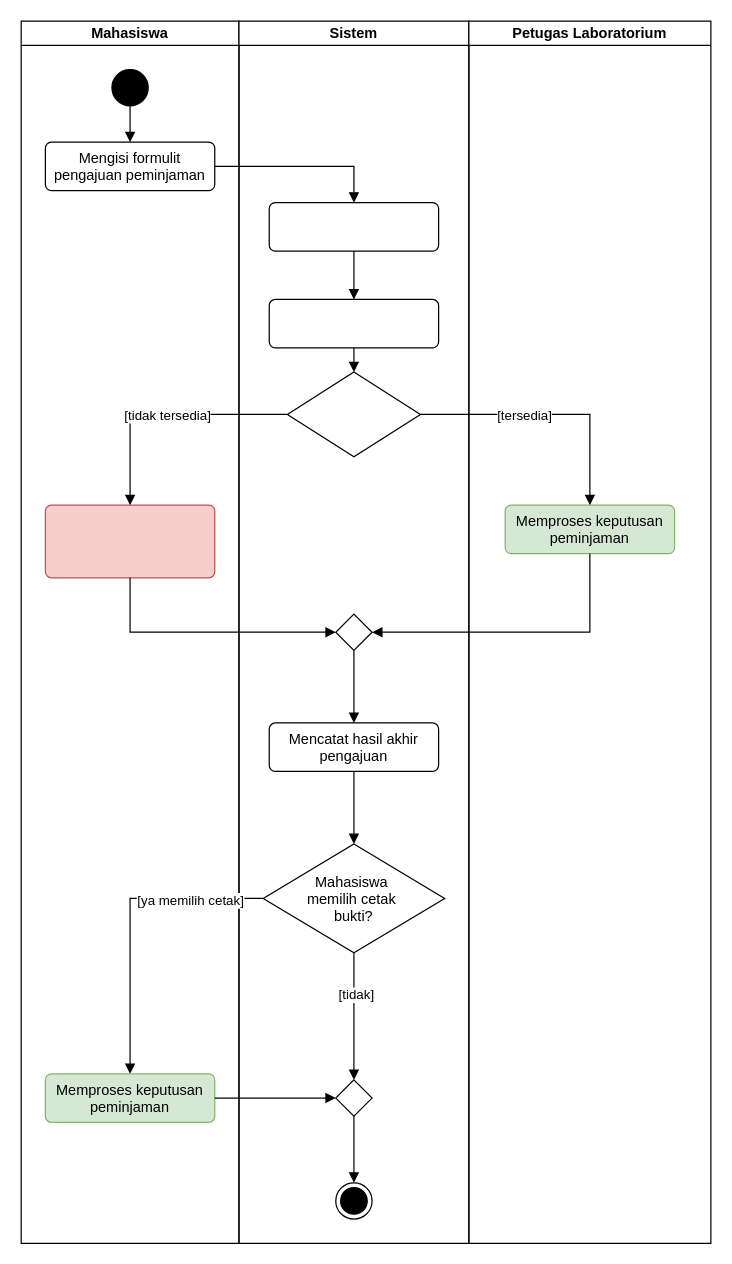
This 732x1264 diagram has some shape labels left out. The shapes that lost their labels are listed below. From the top down, each one's centre as x and y in pixels, then its label:
the point at 353,226: Menyimpan data pengajuan peminjaman
the point at 353,323: Periksa Ketersediaan (dari LAB-UC04)
the point at 353,414: Peralatan Tersedia?
the point at 129,541: Menerima pemberitahuan pengajuan tidak terpenuhi
